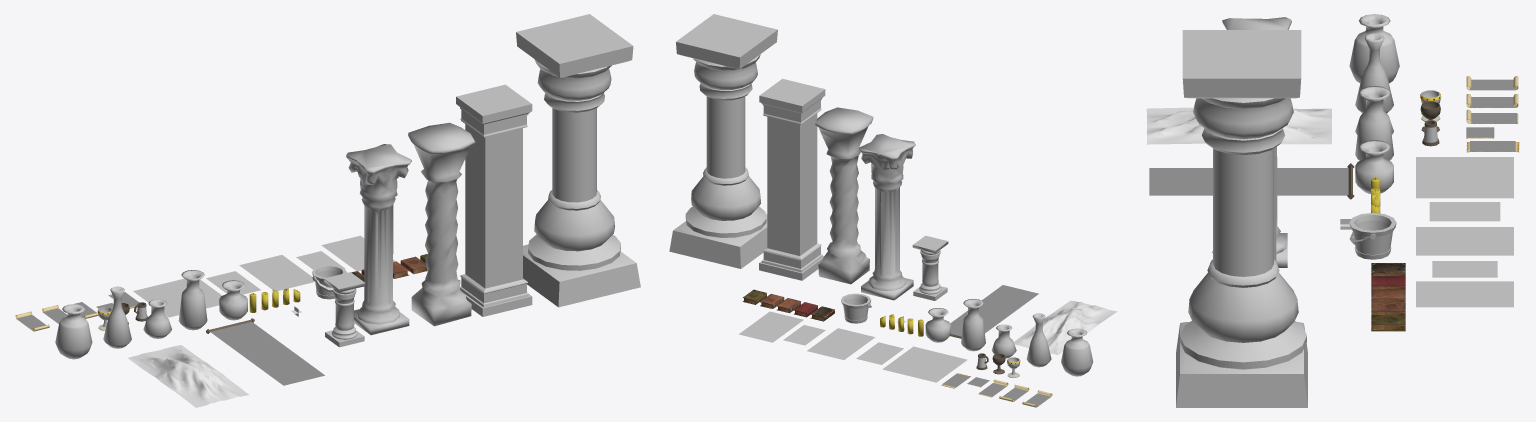
File: ItemsDeco2.FBX
The picture shows the model from 3 angles, left to right: view 1: azimuth 30°, elevation 25°; view 2: azimuth 150°, elevation 25°; view 3: azimuth 270°, elevation 25°; orthographic projection. The views are drawn at different scales.
Visible parts, largest first — view 1: ColumnSpec004, ColumnSpec003, ColumnSpec002, ColumnSpec001, MountBunch, Plane001, ColumnSpec000, Carpet002, Vessel04, Carpet00, Vessel01, Vessel03 (+4 smaller); view 2: ColumnSpec004, ColumnSpec003, ColumnSpec002, ColumnSpec001, MountBunch, Carpet00, Plane001, ColumnSpec000, Carpet002, Vessel04, Carpet004, Vessel01 (+6 smaller); view 3: ColumnSpec004, Carpet00, Plane001, MountBunch, Carpet002, Carpet004, Vessel04, Vessel01, Bucket00, Vessel00, Carpet001, ColumnSpec001 (+14 smaller).
Part boxes in pixels (x1,y1,x2,y2): ColumnSpec004: [516, 14, 640, 307]; ColumnSpec003: [456, 84, 532, 316]; ColumnSpec002: [408, 122, 475, 326]; ColumnSpec001: [346, 144, 411, 335]; MountBunch: [128, 345, 248, 407]; Plane001: [210, 321, 324, 385]; ColumnSpec000: [324, 272, 365, 347]; Carpet002: [239, 255, 314, 290]; Vessel04: [55, 304, 92, 359]; Carpet00: [133, 278, 221, 317]; Vessel01: [178, 270, 207, 330]; Vessel03: [103, 286, 131, 348]; ColumnSpec004: [669, 14, 777, 268]; ColumnSpec003: [759, 78, 825, 280]; ColumnSpec002: [815, 107, 873, 284]; ColumnSpec001: [859, 134, 915, 300]; MountBunch: [1014, 300, 1117, 354]; Carpet00: [882, 346, 967, 382]; Plane001: [950, 285, 1038, 336]; ColumnSpec000: [912, 235, 948, 300]; Carpet002: [807, 328, 875, 359]; Vessel04: [1061, 328, 1093, 376]; Carpet004: [739, 311, 803, 342]; Vessel01: [961, 299, 985, 351]; ColumnSpec004: [1176, 30, 1307, 407]; Carpet00: [1416, 157, 1513, 198]; Plane001: [1149, 168, 1348, 195]; MountBunch: [1146, 107, 1331, 144]; Carpet002: [1416, 227, 1513, 255]; Carpet004: [1416, 281, 1513, 307]; Vessel04: [1349, 14, 1399, 83]; Vessel01: [1355, 86, 1393, 160]; Bucket00: [1349, 212, 1396, 259]; Vessel00: [1355, 140, 1393, 193]; Carpet001: [1429, 202, 1500, 221]; ColumnSpec001: [1222, 17, 1291, 267].
Bounding box in the file's own units: 1137 × 525 × 536.
